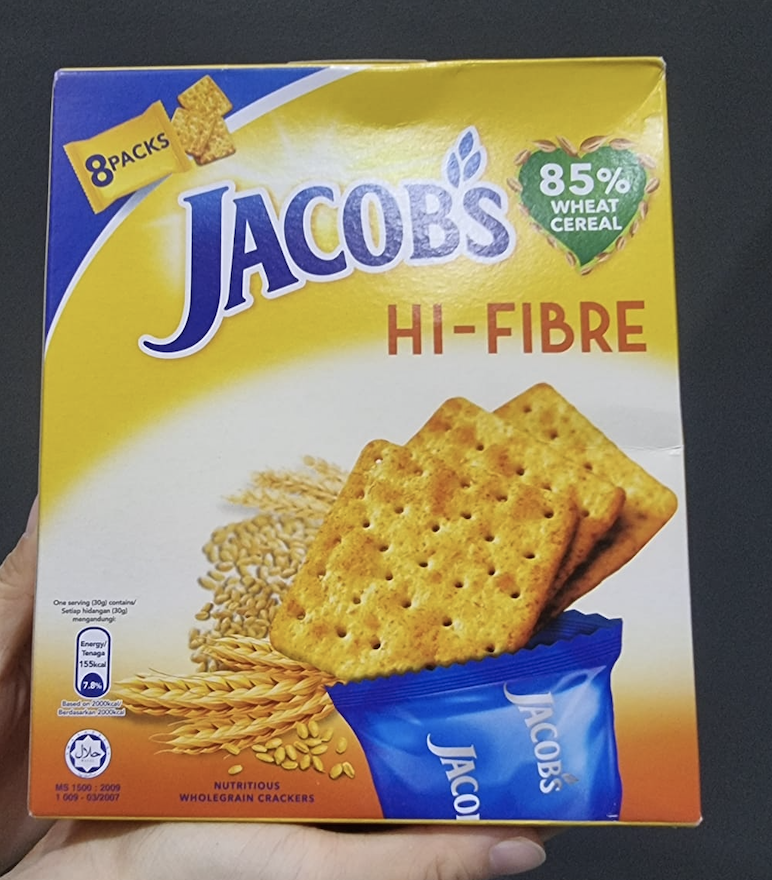Halal: (71, 740, 104, 764)
